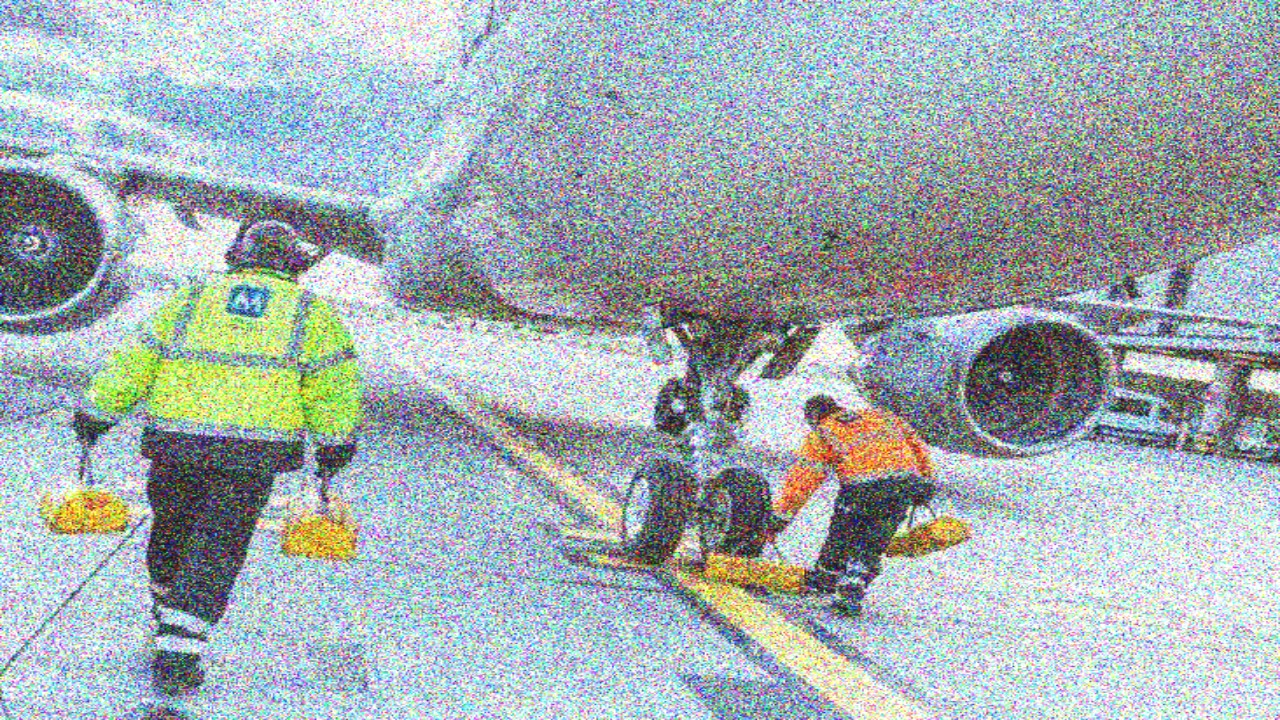chock: (24, 465, 143, 546), (275, 475, 374, 571), (874, 506, 976, 571), (700, 550, 812, 598)
wheel: (611, 452, 701, 568), (687, 462, 779, 568), (648, 375, 698, 435), (722, 383, 754, 418)
